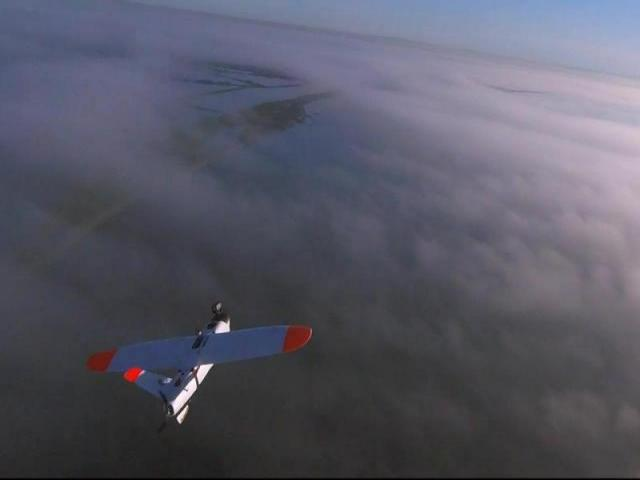hedef: (82, 303, 316, 421)
